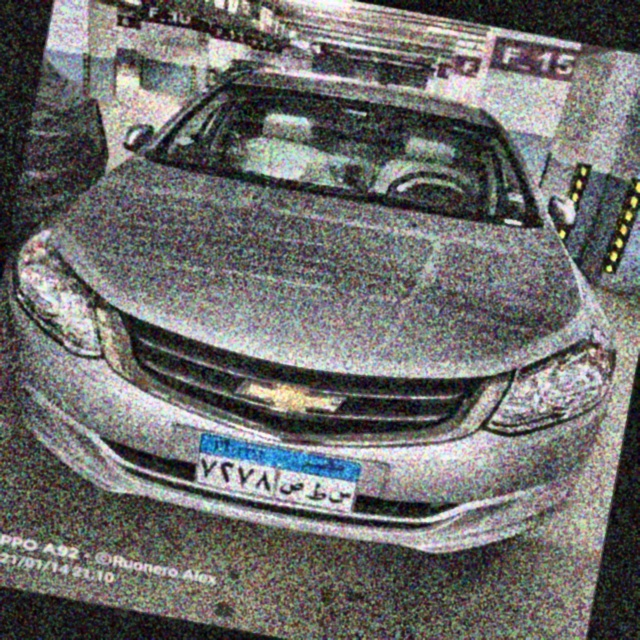License Plate: (191, 431, 364, 516)
